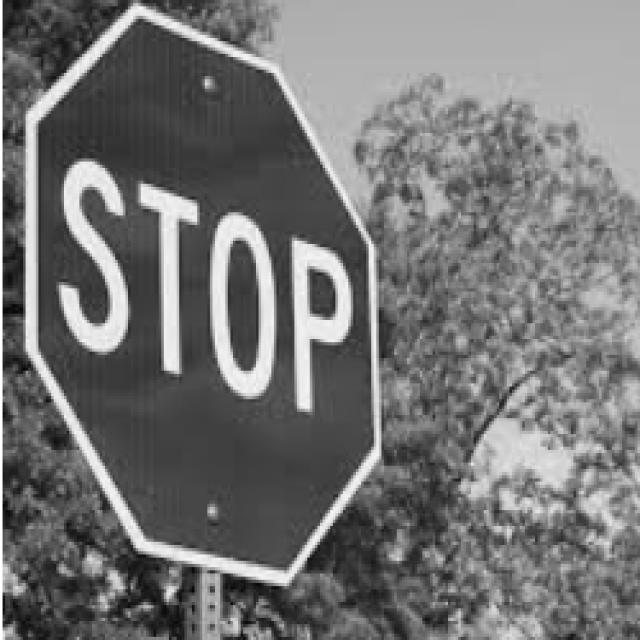Stop-signs: (25, 5, 381, 584)
